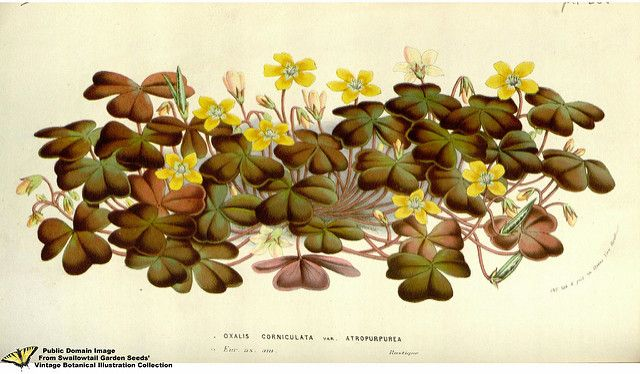oxalis: (73, 54, 602, 288)
